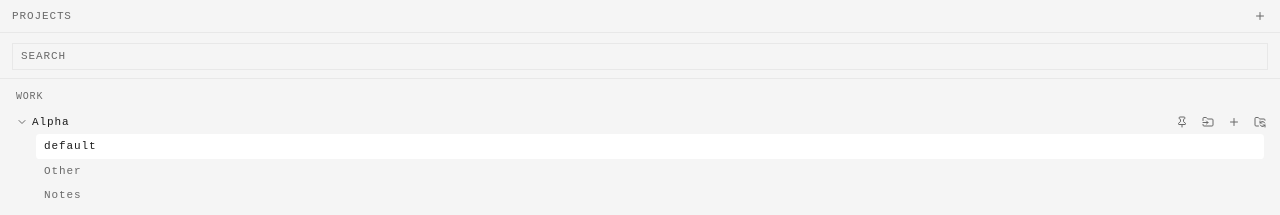
Scenario: ProjectLeftPanel › filters by trunk title and chat message body
The image size is (1280, 215).
In the search field named "search projects": {"x": 640, "y": 56} [12,43,1268,70], type "zebra"
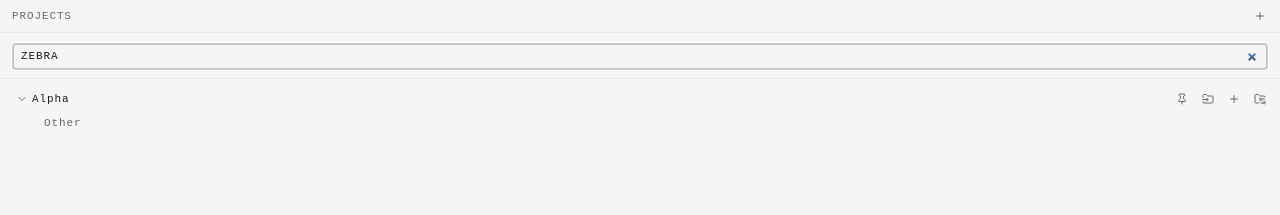
Expected: the button "Other" is shown, [36,111,1264,136]
Result: the button "default" is gone
Result: the button "Notes" is gone
